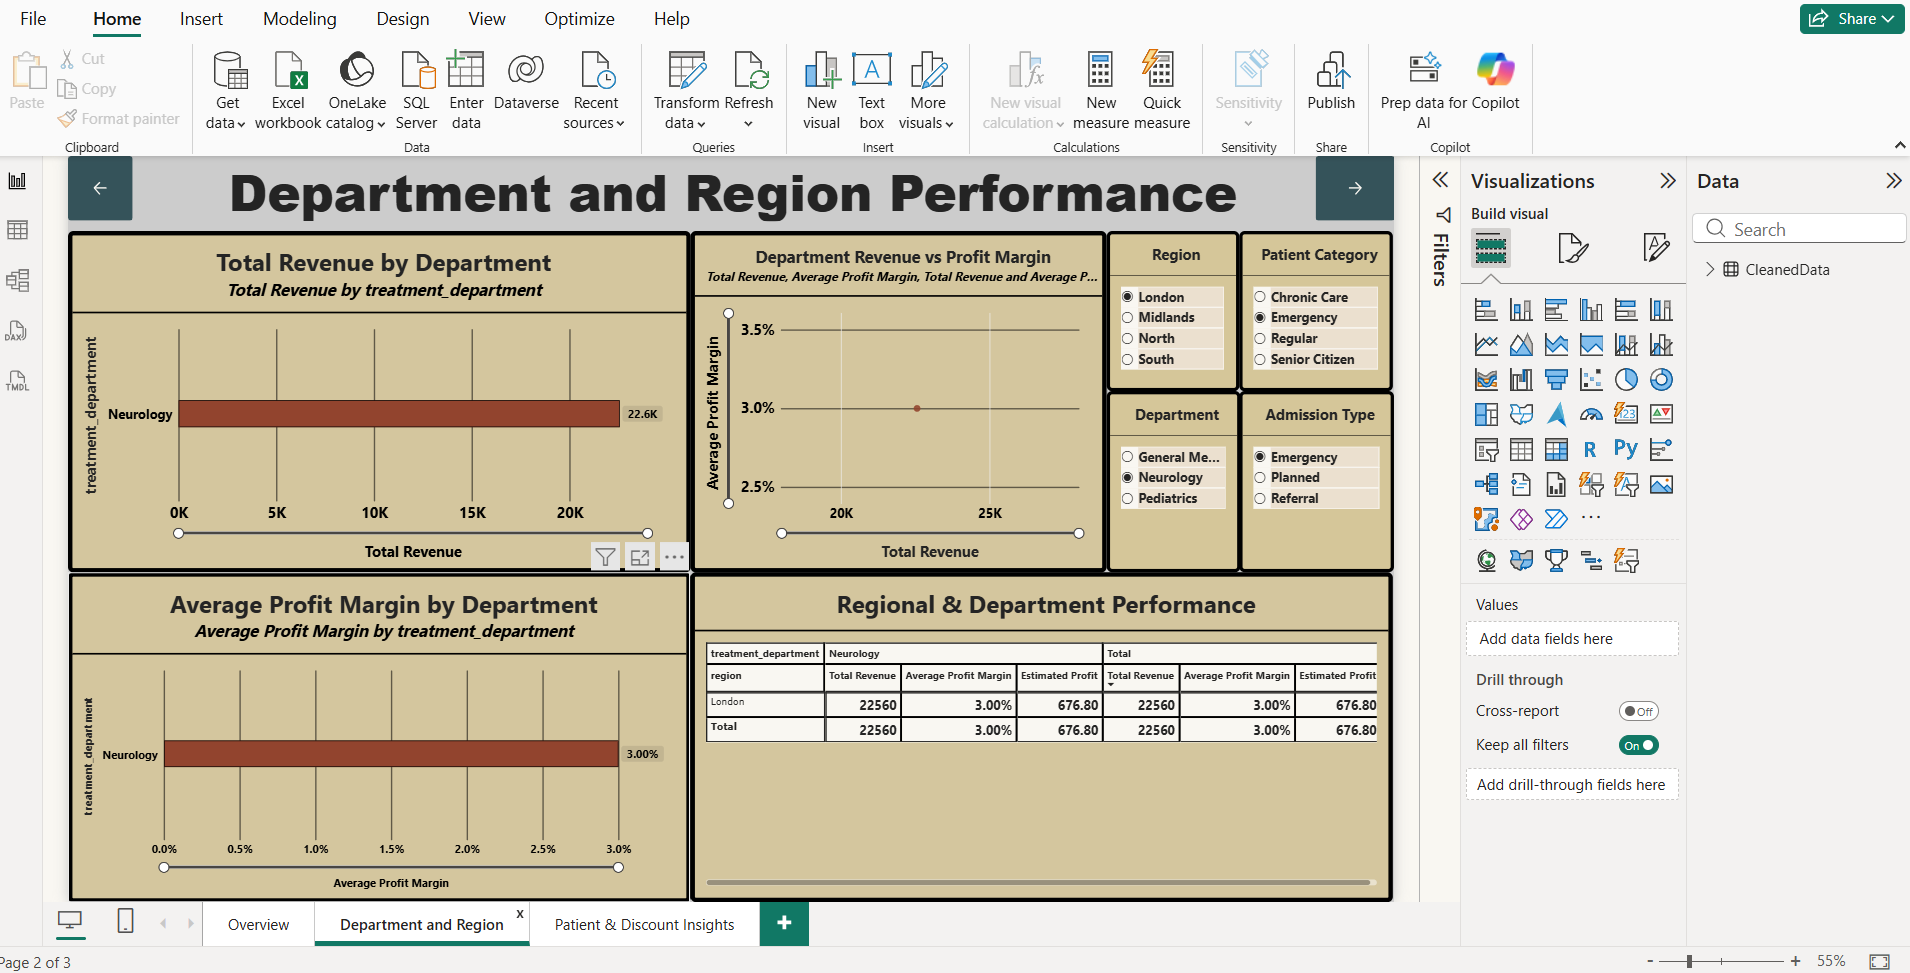

The dashboard page shown, as its layout file describes it:
{"tool":"powerbi","page":{"name":"Department and Region ","canvas":[1920,1080],"ordinal":1},"visuals":[{"type":"textbox","box":[10.3,0,1910.1,94.7],"z":0},{"type":"clusteredBarChart","title":"Total Revenue by Department","fields":{"Category":["CleanedData.treatment_department"],"Y":["CleanedData.Total Revenue"]},"box":[0,108.6,901.2,494],"z":1000},{"type":"clusteredBarChart","title":"Average Profit Margin by Department","fields":{"Category":["CleanedData.treatment_department"],"Y":["CleanedData.Average Profit Margin"]},"box":[0,603.1,901.5,478.2],"z":2000},{"type":"scatterChart","title":"Department Revenue vs Profit Margin ","fields":{"Category":["CleanedData.treatment_department"],"X":["CleanedData.Total Revenue"],"Y":["CleanedData.Average Profit Margin"]},"box":[901.2,108.6,602.6,494],"z":3000},{"type":"pivotTable","title":"Regional & Department Performance","fields":{"Columns":["CleanedData.treatment_department"],"Rows":["CleanedData.region"],"Values":["CleanedData.Total Revenue","CleanedData.Average Profit Margin","CleanedData.Estimated Profit"]},"box":[901.2,602.6,1017,477.8],"z":4000},{"type":"listSlicer","title":"Region","fields":{"Values":["CleanedData.region"]},"box":[1503.8,108.6,191.8,231.6],"z":5000},{"type":"listSlicer","title":"Department","fields":{"Values":["CleanedData.treatment_department"]},"box":[1503.8,340.2,193.6,262.4],"z":6000},{"type":"listSlicer","title":"Patient Category","fields":{"Values":["CleanedData.patient_category"]},"box":[1695.7,108.6,222.6,231.6],"z":7000},{"type":"listSlicer","title":"Admission Type","fields":{"Values":["CleanedData.admission_type"]},"box":[1695.7,340.2,224.4,262.4],"z":8000},{"type":"actionButton","box":[1805.2,0,114.8,93.9],"z":9000},{"type":"actionButton","box":[0,0,93.9,93.9],"z":10000}]}

Visuals, with their boxes on the page's 1920x1080 design canvas (x1, y1, x2, y2). These are canvas units, not pixel positions in the 1910x973 screenshot, which may show the page scaled, cropped or inside an application window:
textbox: box=[10, 0, 1920, 95]
"Total Revenue by Department" clusteredBarChart: box=[0, 109, 901, 603]
"Average Profit Margin by Department" clusteredBarChart: box=[0, 603, 902, 1081]
"Department Revenue vs Profit Margin " scatterChart: box=[901, 109, 1504, 603]
"Regional & Department Performance" pivotTable: box=[901, 603, 1918, 1080]
"Region" listSlicer: box=[1504, 109, 1696, 340]
"Department" listSlicer: box=[1504, 340, 1697, 603]
"Patient Category" listSlicer: box=[1696, 109, 1918, 340]
"Admission Type" listSlicer: box=[1696, 340, 1920, 603]
actionButton: box=[1805, 0, 1920, 94]
actionButton: box=[0, 0, 94, 94]
